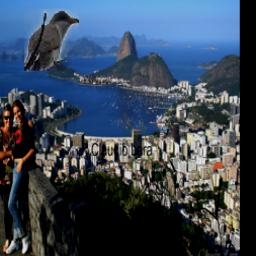Cuckoo: (24, 10, 79, 72)
